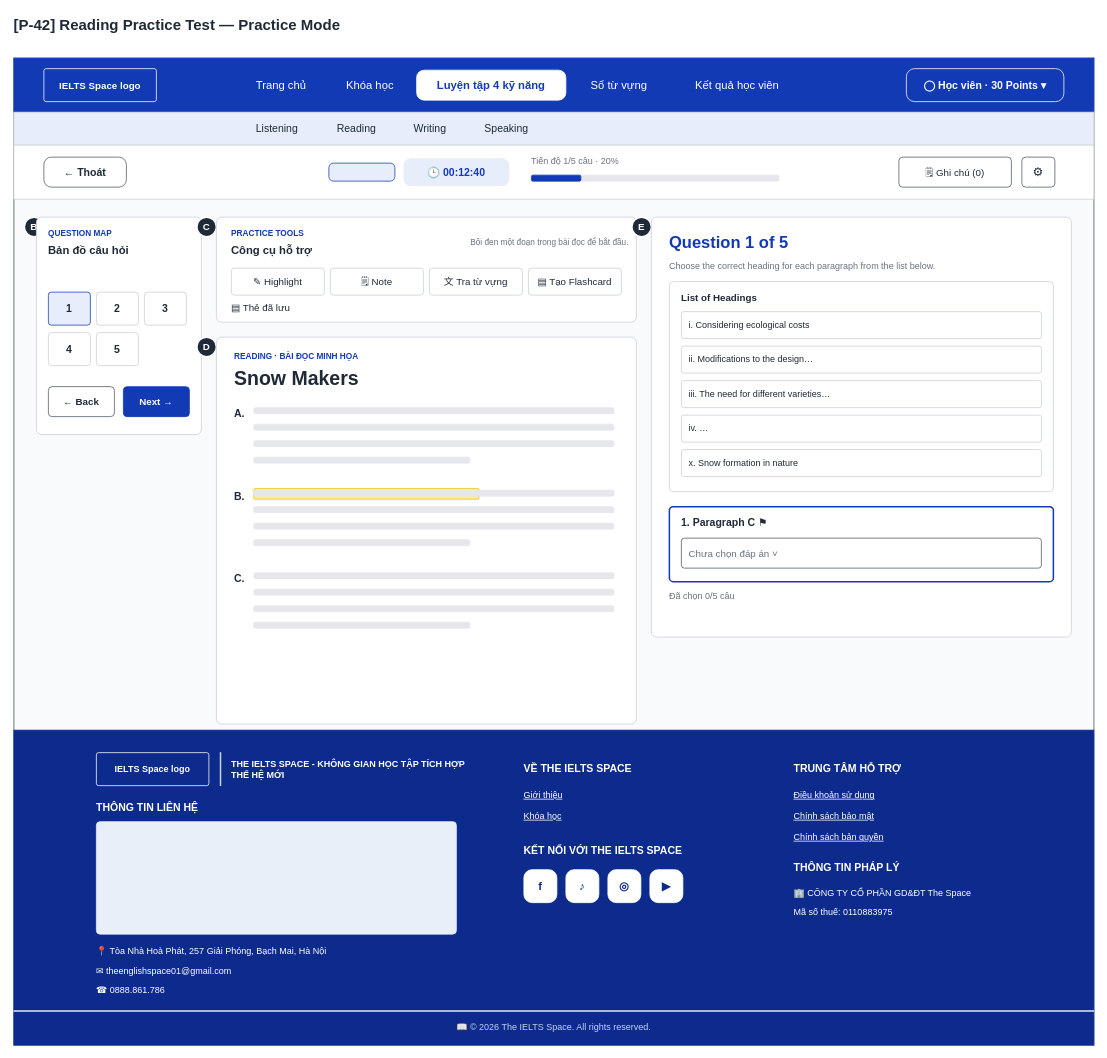
This 1107x1058 diagram has some shape labels left out. Each missing label, with the centre of its shape:
"Luyện tập" belongs at [361,171].
"📍 The IELTS Space Mở trong Maps ↗" belongs at [276,877].
